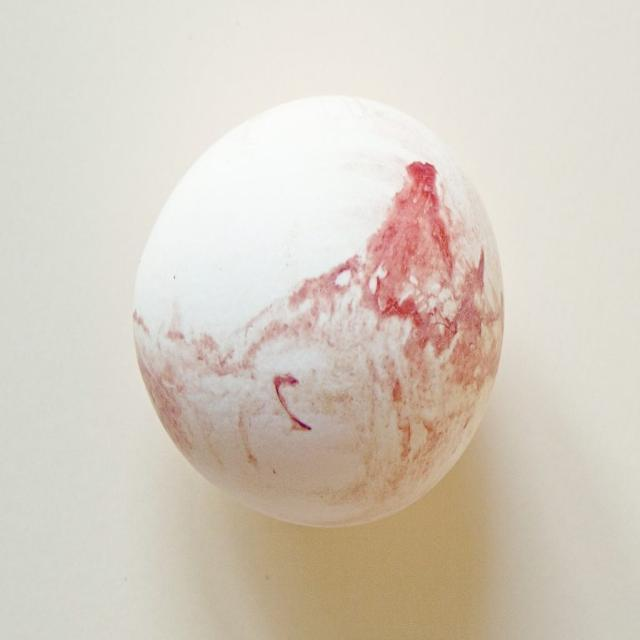Blood Stained Egg: (126, 87, 519, 537)
